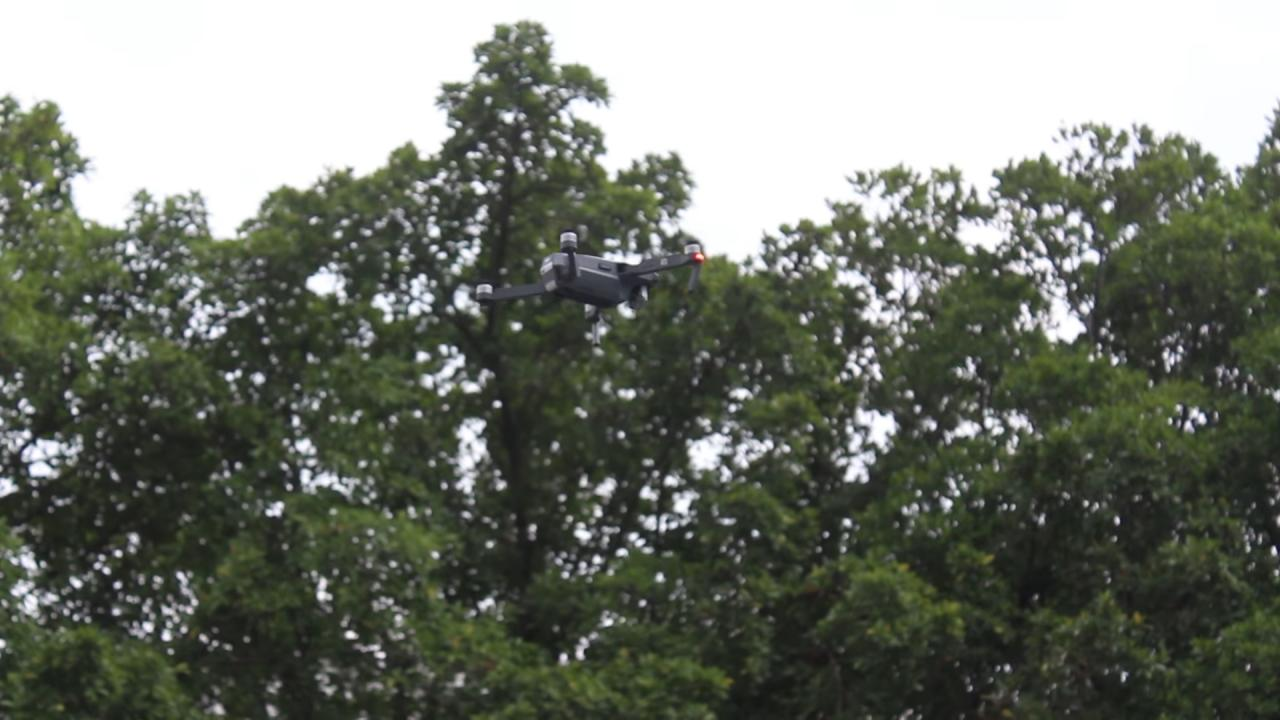Drone: (460, 222, 714, 358)
